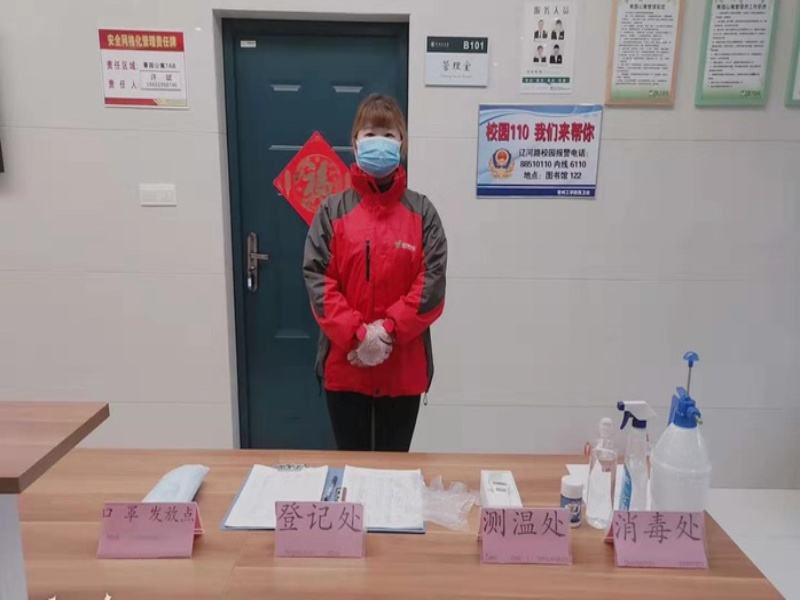ManaoArotava: (341, 88, 416, 184)
